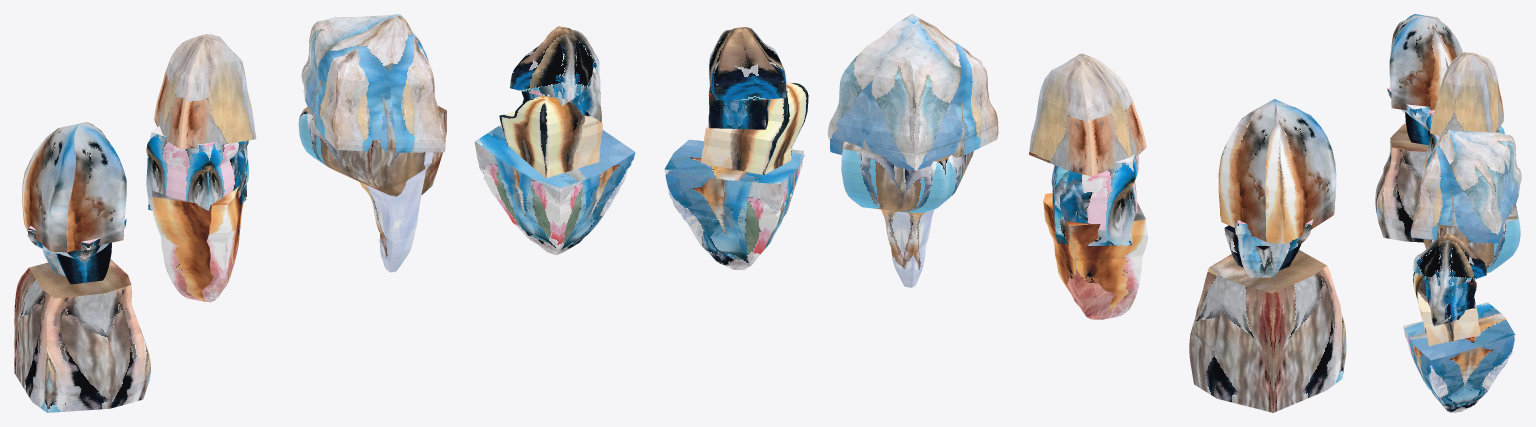
3 renders of one model, left to right at view 1: azimuth 30°, elevation 25°; view 2: azimuth 150°, elevation 25°; view 3: azimuth 270°, elevation 25°, orthographic. The views are drawn at different scales.
Parts seen in each view (by area): view 1: SPLICE_2 (×6), SPLICE_1 (×6), SPLICE_3 (×2); view 2: SPLICE_2 (×6), SPLICE_1 (×6), SPLICE_3 (×2); view 3: SPLICE_2 (×6), SPLICE_1 (×4), SPLICE_3 (×2).
Boxes of the visible parts, <box> form: SPLICE_2 (×6): <box>14,14,602,412</box>; SPLICE_1 (×6): <box>152,26,635,302</box>; SPLICE_3 (×2): <box>27,106,446,276</box>; SPLICE_2 (×6): <box>701,14,1346,412</box>; SPLICE_1 (×6): <box>664,27,1147,319</box>; SPLICE_3 (×2): <box>841,141,1313,277</box>; SPLICE_2 (×6): <box>1375,14,1521,345</box>; SPLICE_1 (×4): <box>1403,52,1515,412</box>; SPLICE_3 (×2): <box>1387,87,1520,272</box>.
Bounding box in the file's own units: 9.2 × 4.24 × 2.45.
Materials: 14 (14 with a texture image).
